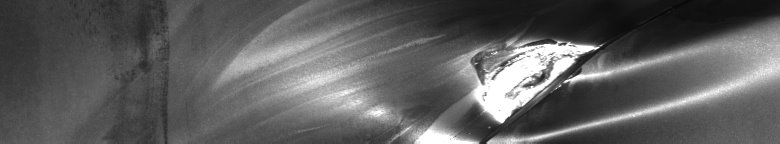ke: (370, 32, 727, 136)
